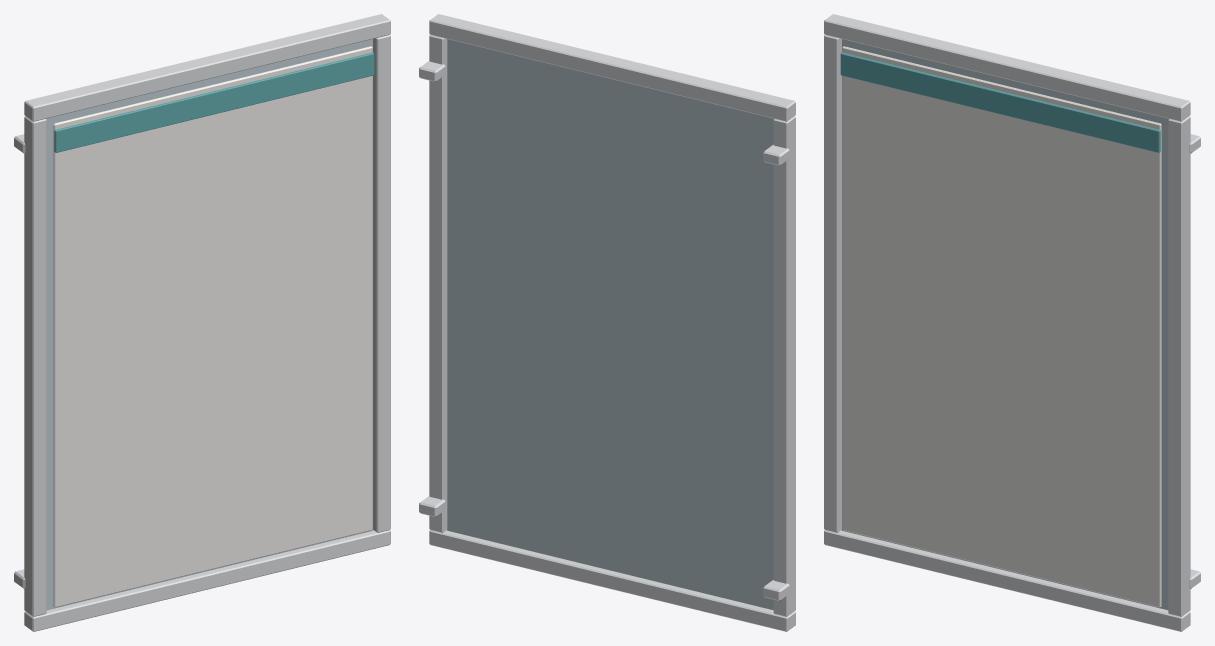
File: fast-food-and-drive-thru-window-vinyl-frame-30057ac7__16127.glb
The picture shows the model from 3 angles, left to right: view 1: azimuth 30°, elevation 25°; view 2: azimuth 150°, elevation 25°; view 3: azimuth 330°, elevation 25°; orthographic projection.
Parts seen in each view (by area): view 1: window-vinyl-frame; view 2: window-vinyl-frame; view 3: window-vinyl-frame.
Boxes of the visible parts, box(x1,y1,x2,y2) form: window-vinyl-frame: box(14, 14, 390, 631); window-vinyl-frame: box(419, 14, 795, 631); window-vinyl-frame: box(824, 14, 1200, 631).
Size of the model in its own units: 1.01 by 1.4 by 0.101.
